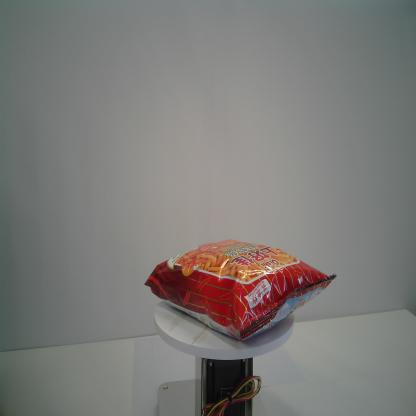Puffed Food: (144, 237, 337, 340)
